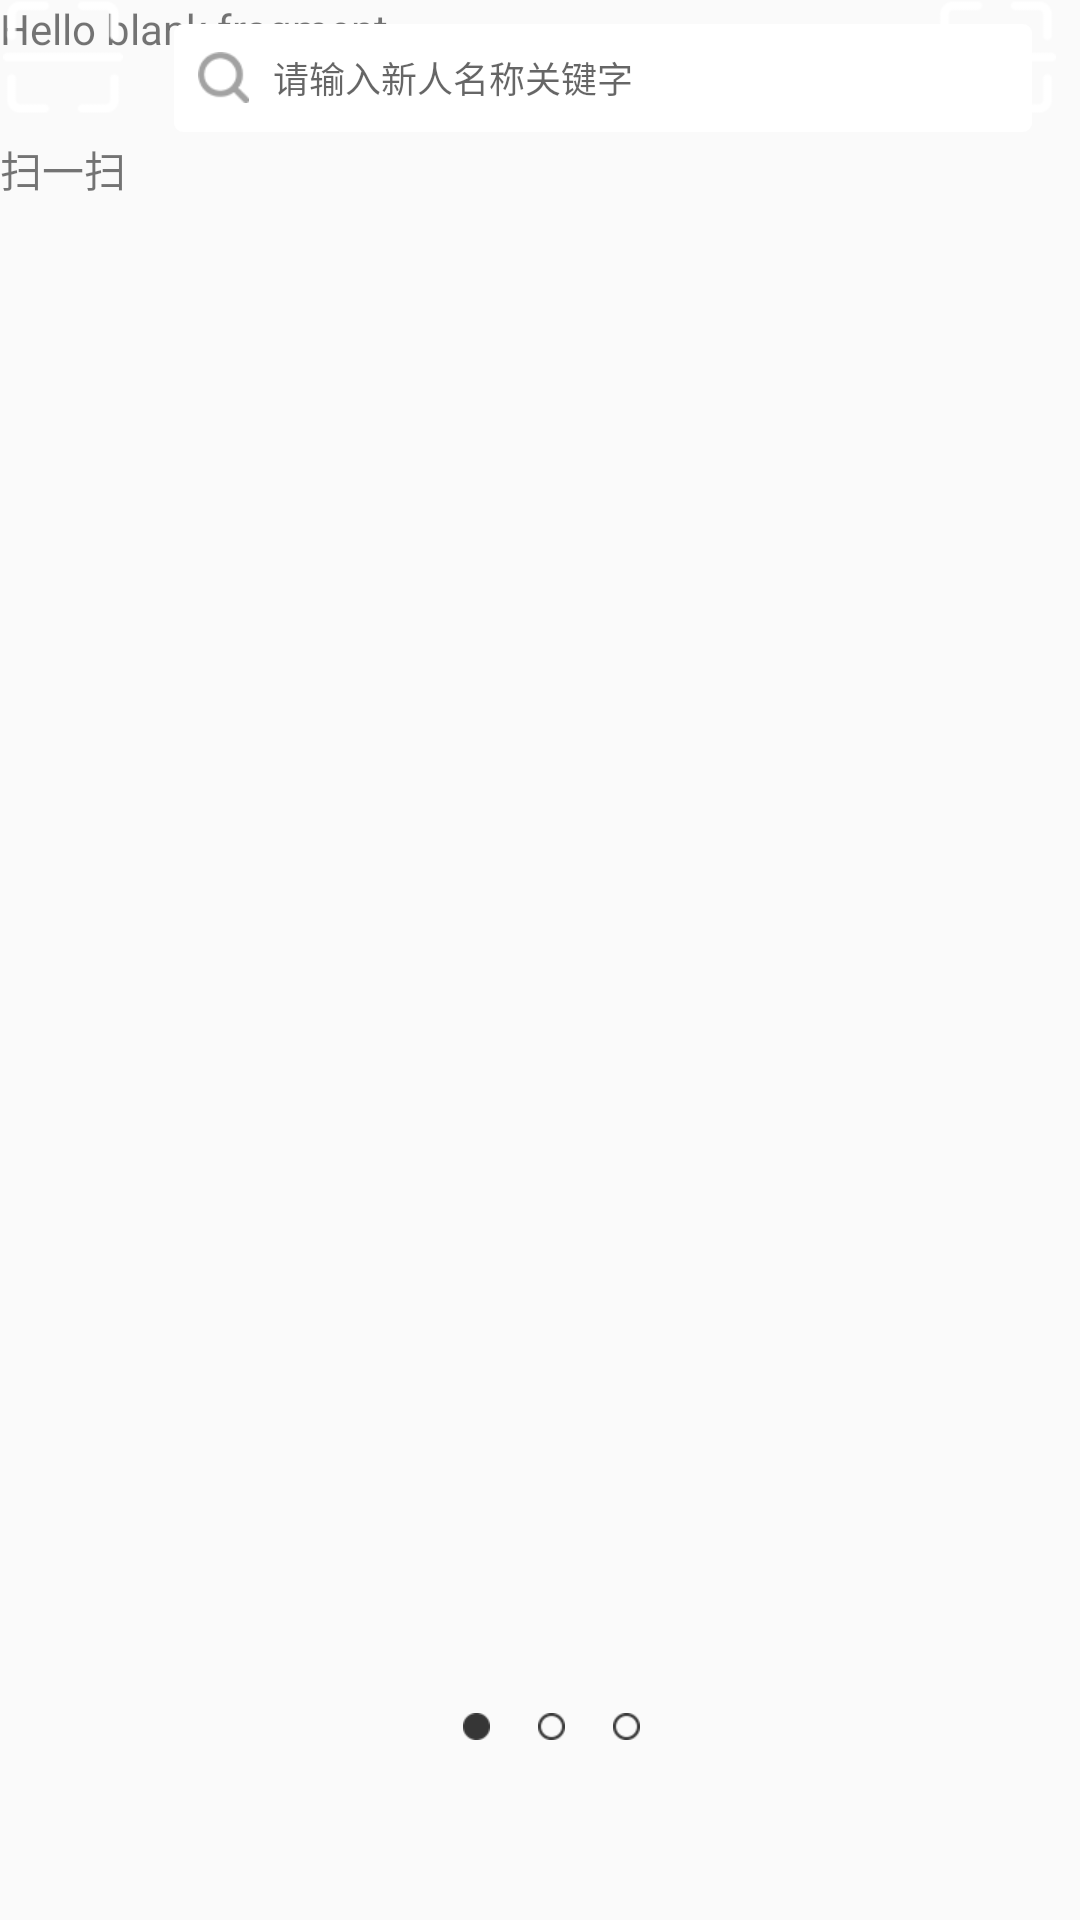

Point at icon controls on the screen. Image size 1080 × 1920, points as (x=x, y=y).
empty no check: (x=551, y=1726), (x=626, y=1726)
full checked: (x=476, y=1726)
